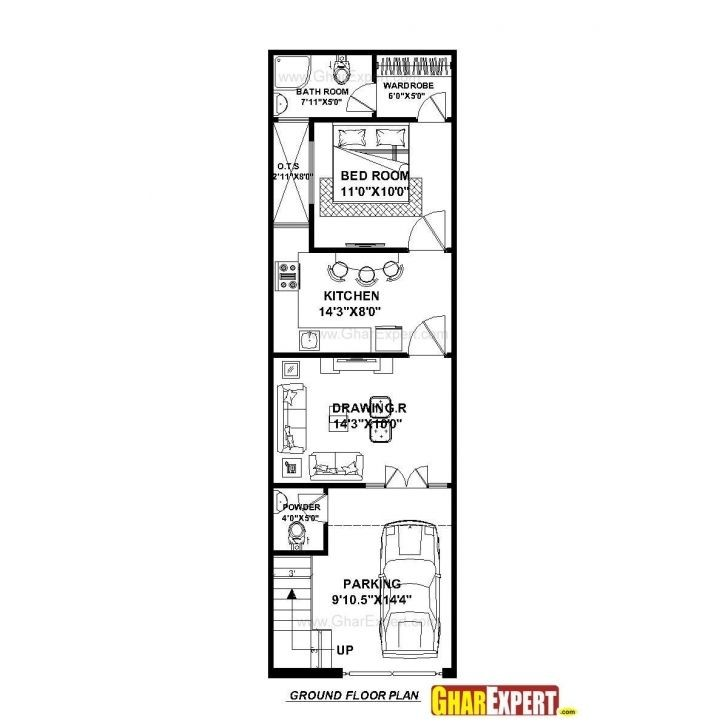door: (404, 316, 460, 358), (411, 81, 458, 128), (378, 457, 434, 496), (413, 212, 457, 258), (340, 76, 385, 120)
room: (266, 348, 465, 493), (268, 116, 462, 252), (331, 488, 465, 681), (265, 249, 467, 361), (266, 549, 341, 676), (375, 41, 470, 132), (273, 51, 381, 125), (260, 481, 333, 559)
wall: (265, 47, 288, 686), (447, 44, 467, 688), (263, 39, 459, 64), (272, 346, 409, 365), (270, 657, 346, 688), (269, 475, 367, 496), (307, 240, 411, 257), (300, 115, 418, 126), (267, 546, 337, 562), (365, 46, 383, 85), (317, 523, 335, 557), (305, 202, 316, 254), (302, 113, 321, 142)
window: (340, 654, 445, 685), (303, 137, 321, 211), (359, 470, 389, 498), (424, 475, 454, 496)
